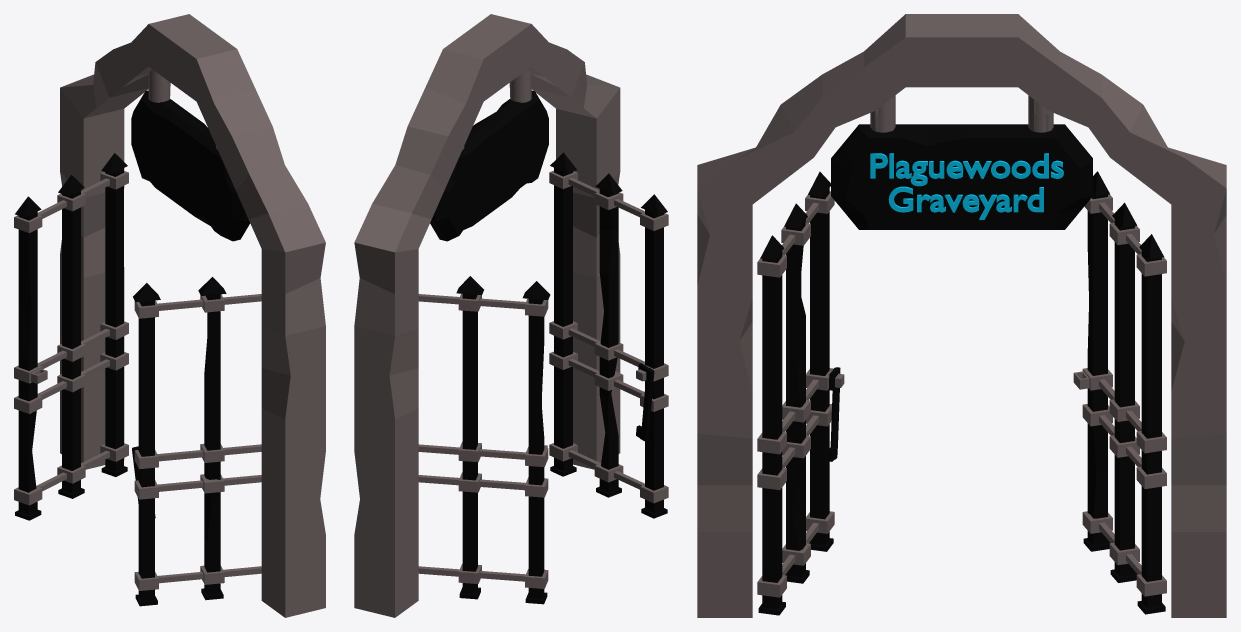
Rendered from Graveyard FenceGate open.fbx.
3 renders of one model, left to right at view 1: azimuth 30°, elevation 25°; view 2: azimuth 150°, elevation 25°; view 3: azimuth 270°, elevation 25°, orthographic. The views are drawn at different scales.
Parts seen in each view (by area): view 1: Cube.045, Cube.044, Cube.042, Cube.043, Cube.041, Cube.039, Cube.038, Cube.032, Cube.034, Cube.033, Cube.040, Cube.030 (+3 smaller); view 2: Cube.045, Cube.044, Cube.037, Cube.039, Cube.038, Cube.041, Cube.042, Cube.035, Cube.036, Cube.031, Cube.030, Cube.032 (+4 smaller); view 3: Cube.045, Cube.044, Cube.043, Cube.037, Cube.042, Cube.041, Cube.039, Cube.038, Text.001, Cube.032, Cube.034, Cube.033 (+6 smaller).
Part boxes in pixels (left/top/right/bottom): Cube.045: left=60, top=14, right=325, bottom=617; Cube.044: left=131, top=90, right=250, bottom=241; Cube.042: left=58, top=175, right=84, bottom=498; Cube.043: left=101, top=153, right=127, bottom=476; Cube.041: left=15, top=196, right=41, bottom=520; Cube.039: left=133, top=283, right=160, bottom=606; Cube.038: left=198, top=277, right=226, bottom=600; Cube.032: left=14, top=321, right=128, bottom=383; Cube.034: left=14, top=443, right=128, bottom=505; Cube.033: left=14, top=352, right=128, bottom=413; Cube.040: left=14, top=171, right=128, bottom=232; Cube.030: left=134, top=474, right=261, bottom=499; Cube.045: left=354, top=14, right=620, bottom=617; Cube.044: left=430, top=90, right=548, bottom=241; Cube.037: left=550, top=152, right=576, bottom=476; Cube.039: left=641, top=194, right=667, bottom=518; Cube.038: left=595, top=173, right=622, bottom=497; Cube.041: left=523, top=281, right=550, bottom=604; Cube.042: left=456, top=276, right=484, bottom=599; Cube.035: left=549, top=443, right=668, bottom=503; Cube.036: left=549, top=170, right=668, bottom=230; Cube.031: left=549, top=321, right=668, bottom=381; Cube.030: left=549, top=351, right=668, bottom=411; Cube.032: left=418, top=441, right=548, bottom=466; Cube.045: left=697, top=14, right=1226, bottom=617; Cube.044: left=831, top=124, right=1092, bottom=229; Cube.043: left=1137, top=234, right=1165, bottom=614; Cube.037: left=758, top=235, right=785, bottom=615; Cube.042: left=1110, top=202, right=1137, bottom=582; Cube.041: left=1083, top=171, right=1110, bottom=551; Cube.039: left=808, top=171, right=833, bottom=551; Cube.038: left=784, top=203, right=809, bottom=583; Text.001: left=870, top=153, right=1063, bottom=219; Cube.032: left=1073, top=368, right=1166, bottom=453; Cube.034: left=1082, top=511, right=1166, bottom=596; Cube.033: left=1082, top=404, right=1166, bottom=488.
Bounding box in the file's own units: 481 × 1624 × 1340.
